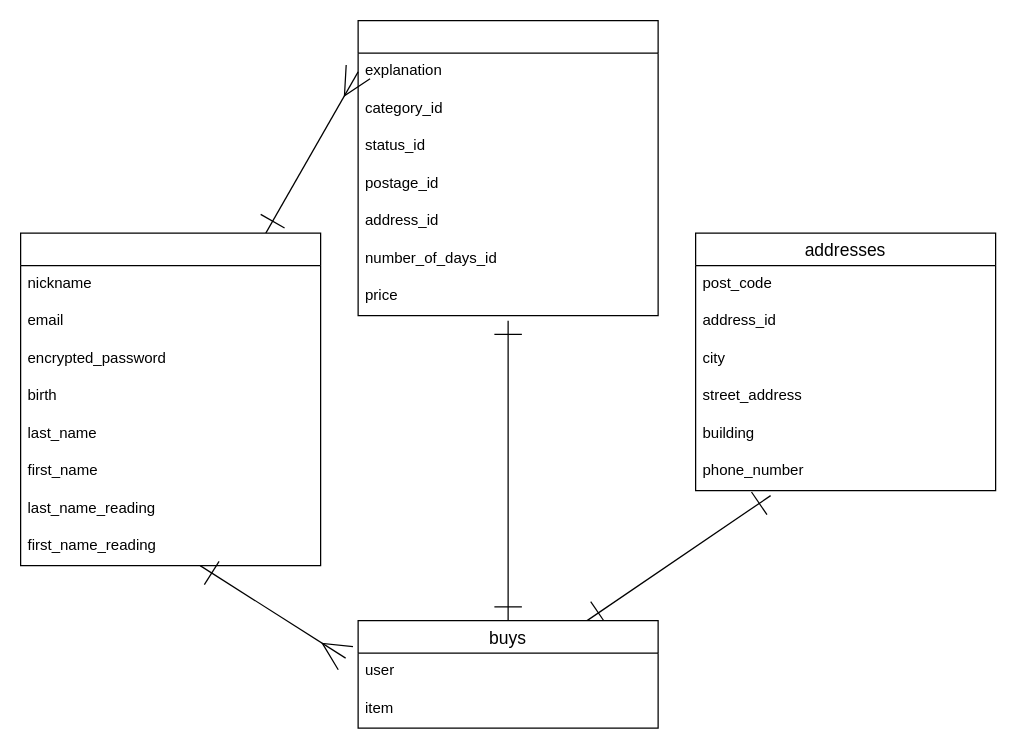
The diagram is 1016 pixels wide and 749 high, and some of its shapes have lost their labels. Each missing label, with the box of its shape:
items: (357, 19, 658, 316)
users: (19, 232, 321, 566)
